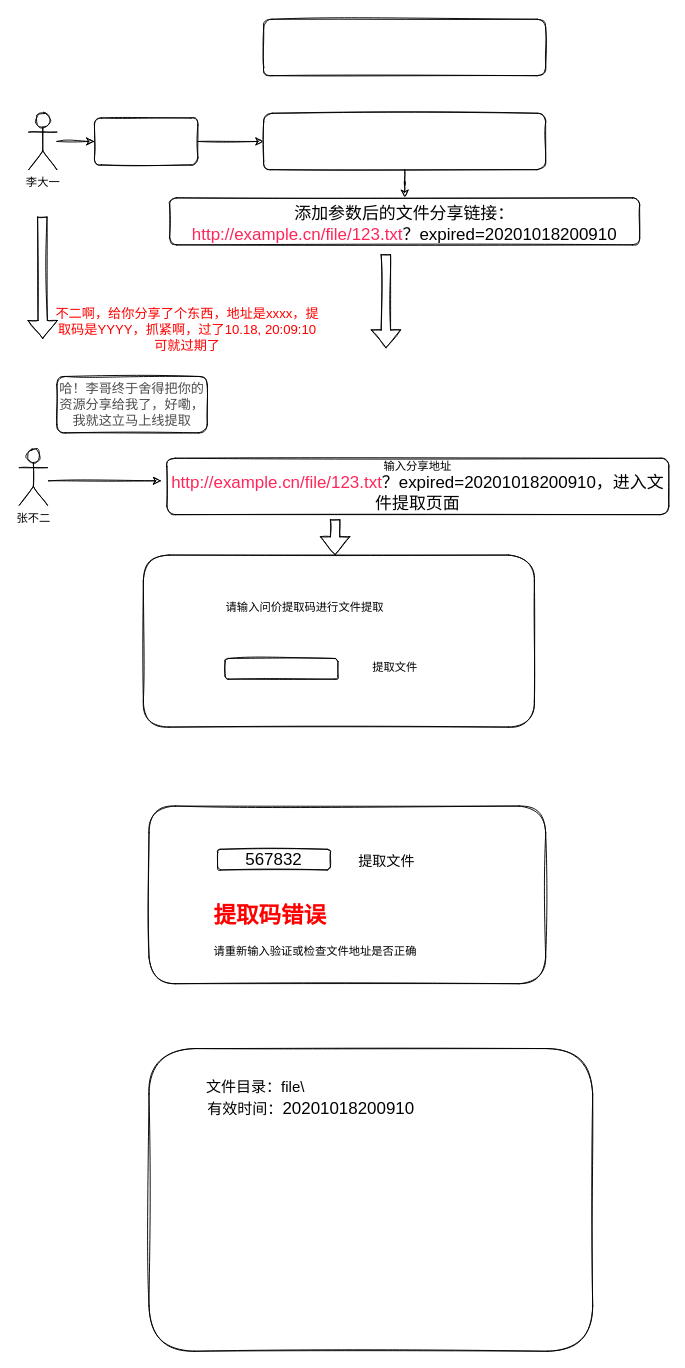
Some shapes in this 685 by 1368 pixel diagram are drawn without their labels. The box of each missing label's shape, as (x1, y1, x2, y2) in pixels:
Tios：此处的文件分享链接可以直接是文件地址，也可以根据需要在后面加上参数，如分享有效期等，后端倒也可以获取返回，但是前端也可以处理，不是吗？: (263, 18, 546, 76)
创建文件分享连接 http://example.cn/file/123.txt: (263, 112, 546, 170)
服务器端文件 123.txt: (94, 117, 198, 165)
